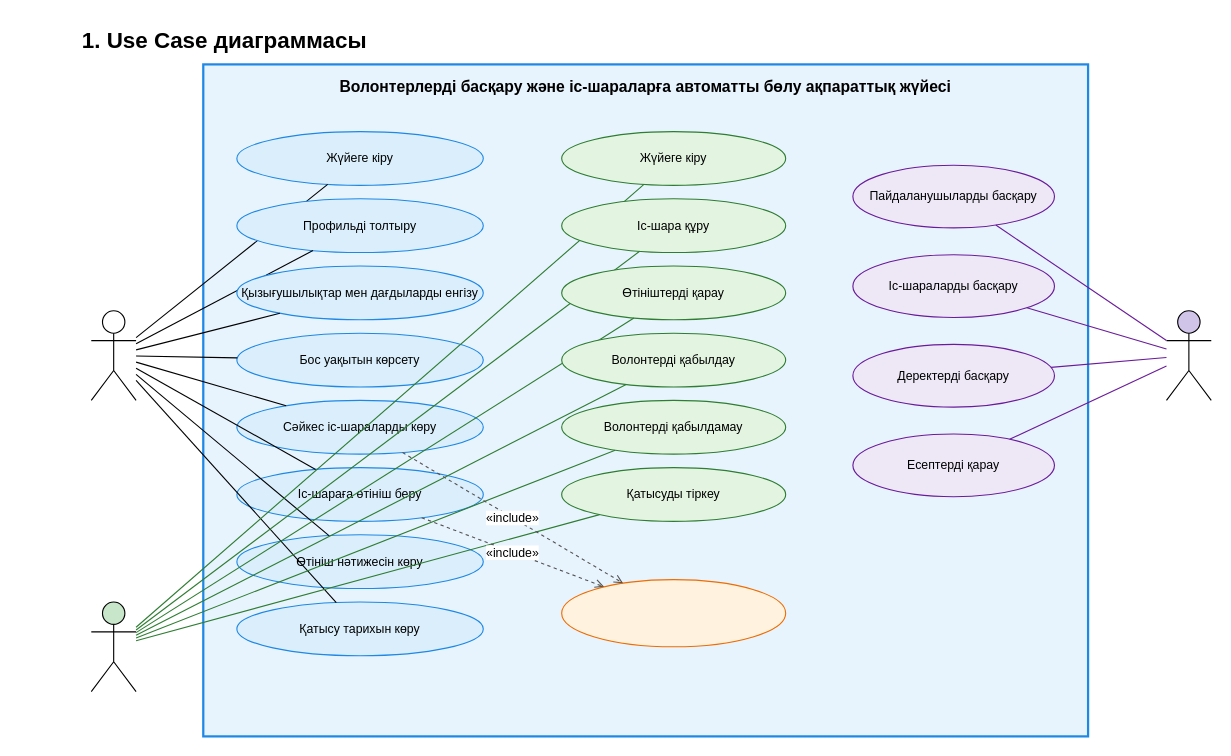
Image size: 1231x756. Some labels were removed from this diagram. Here are the shapes that lost their labels. From the top down, the box of each, then its label:
(90, 310, 136, 400): Волонтер
(1165, 310, 1211, 400): Әкімші
(561, 578, 786, 647): Автоматты ұсыну (жүйе)
(90, 601, 136, 692): Іс-шара ұйымдастырушысы
